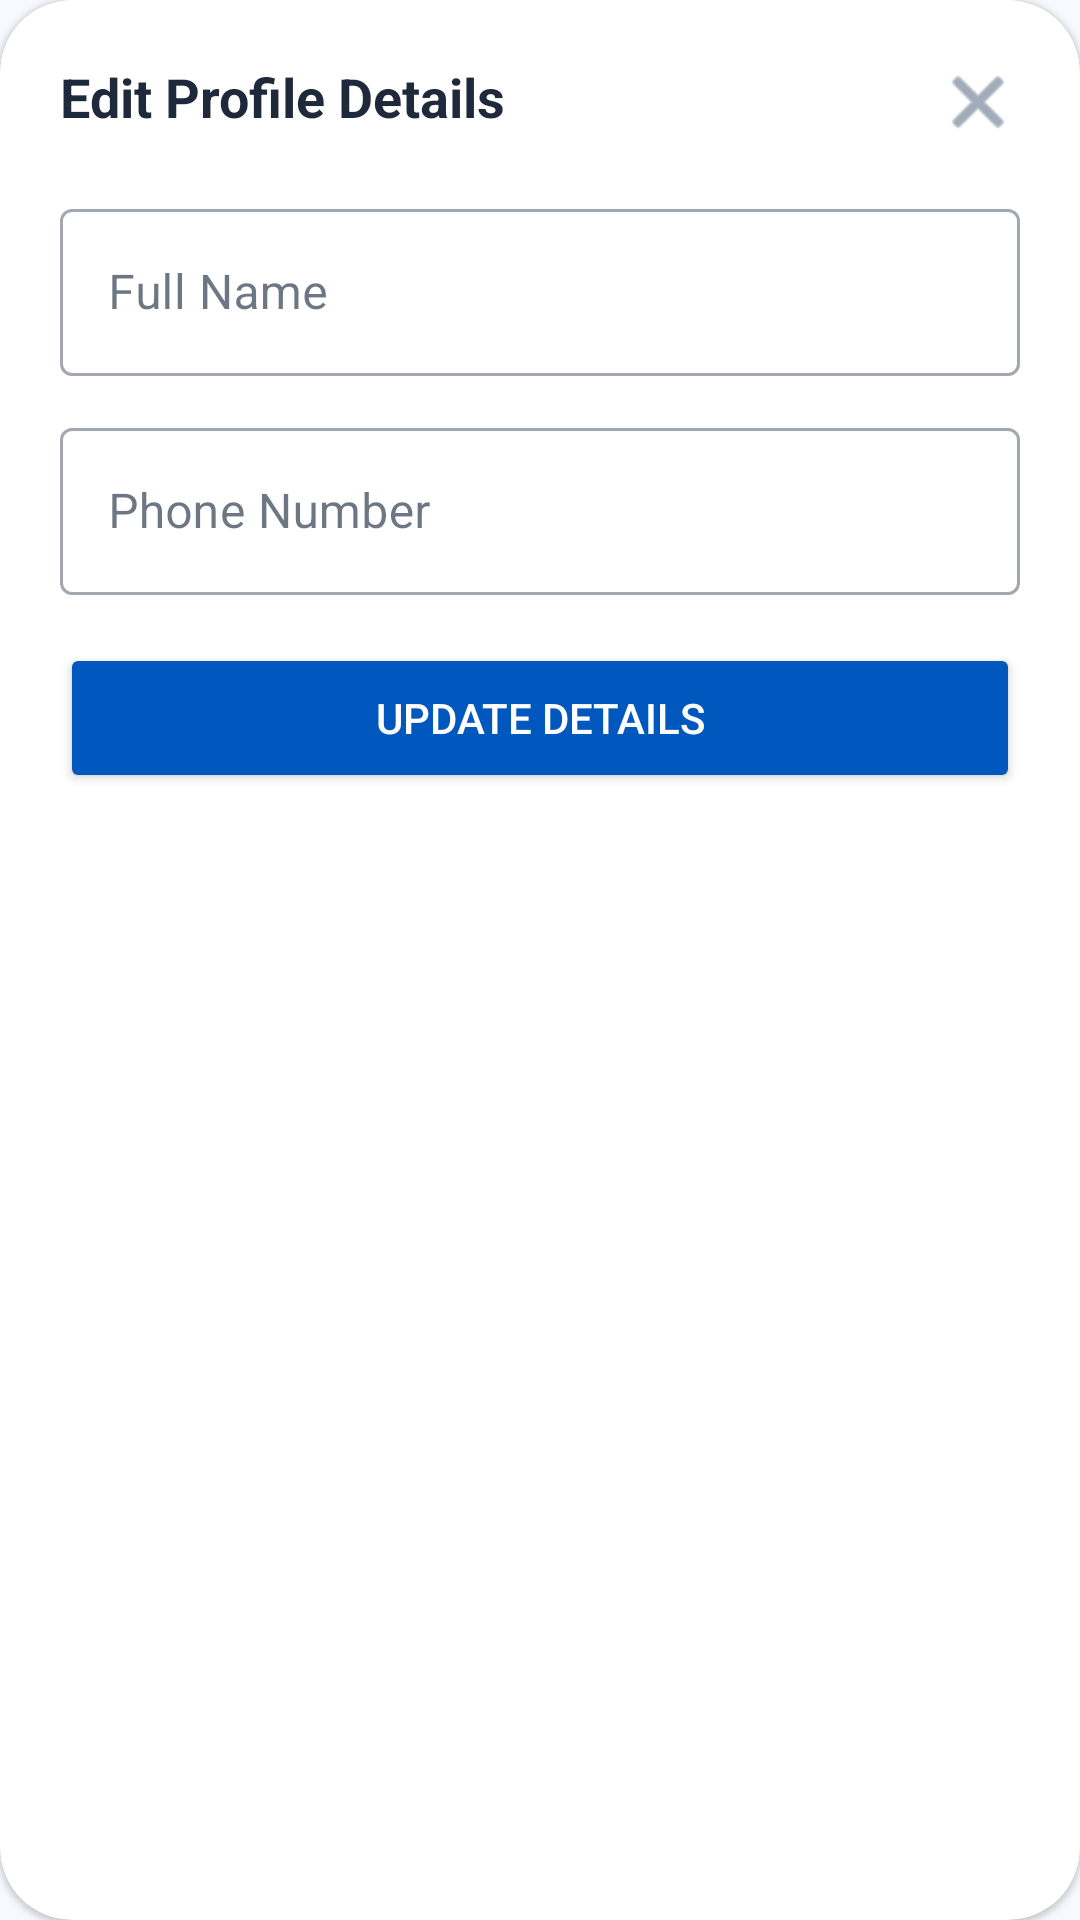

Icon click points for this 1080 × 1920 phone screenshot, format point (x, y):
close clear cancel: point (978, 102)
